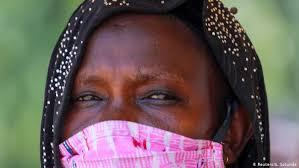Wearing Mask: (56, 0, 246, 168)
